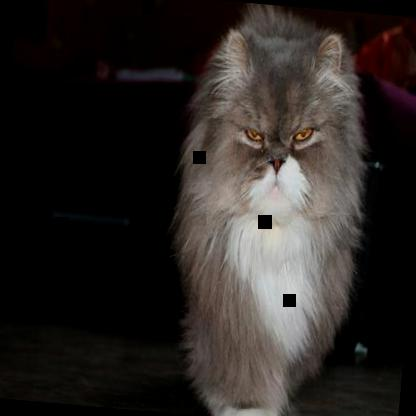cat: (158, 0, 379, 415)
